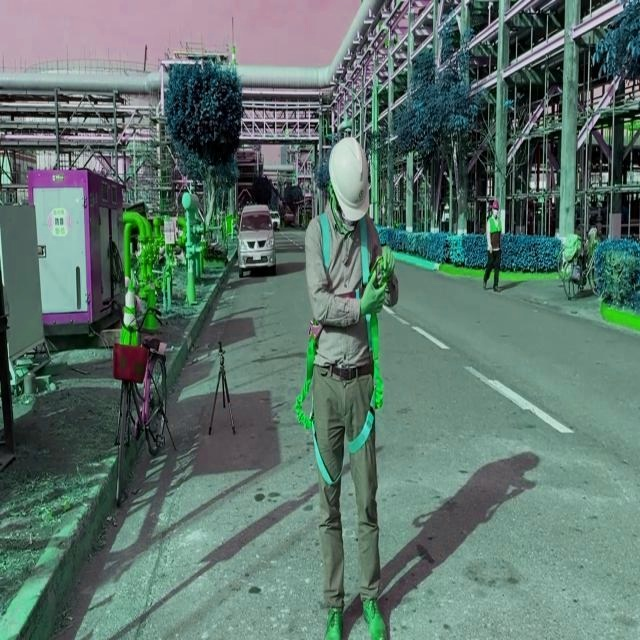safety belt: (287, 203, 409, 488)
